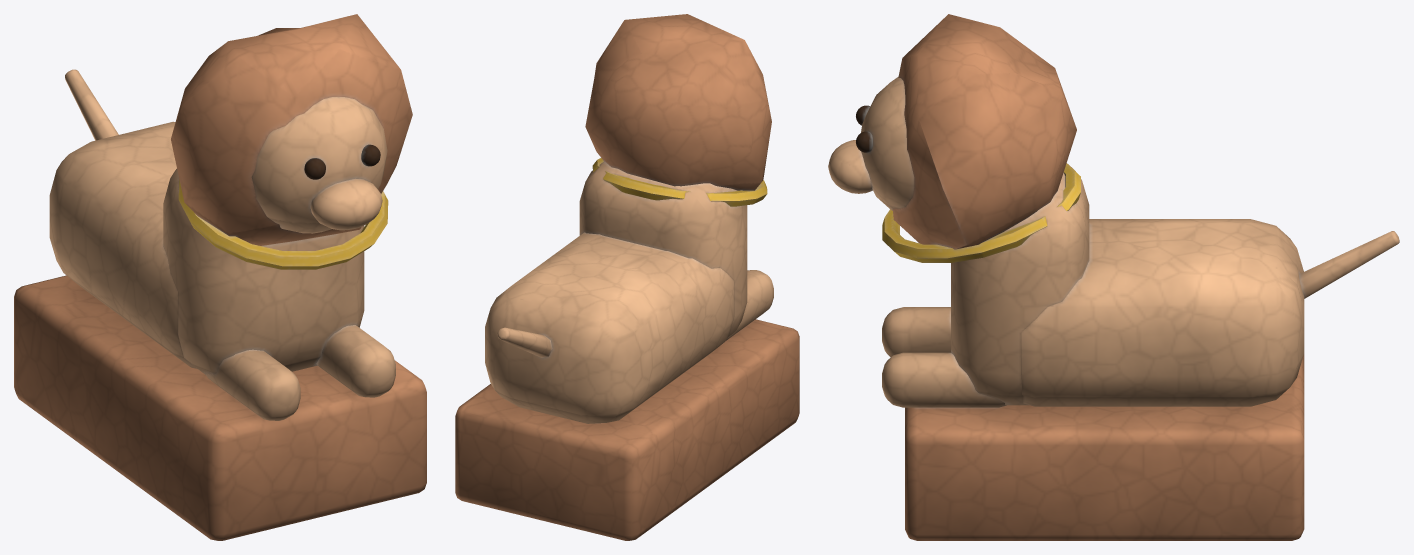
Rendered from sd_lion_statue.glb.
3 views of the same model, side by side, from view 1: azimuth 30°, elevation 25°; view 2: azimuth 150°, elevation 25°; view 3: azimuth 270°, elevation 25° (orthographic). The views are drawn at different scales.
Parts seen in each view (by area): view 1: sd_lion_statue; view 2: sd_lion_statue; view 3: sd_lion_statue.
Boxes of the visible parts, bbox=[...] form: sd_lion_statue: bbox=[14, 14, 426, 540]; sd_lion_statue: bbox=[455, 14, 799, 540]; sd_lion_statue: bbox=[828, 14, 1399, 540].
Size of the model in its own units: 1.6 by 3.25 by 3.72.
4 materials, 4 textured.
